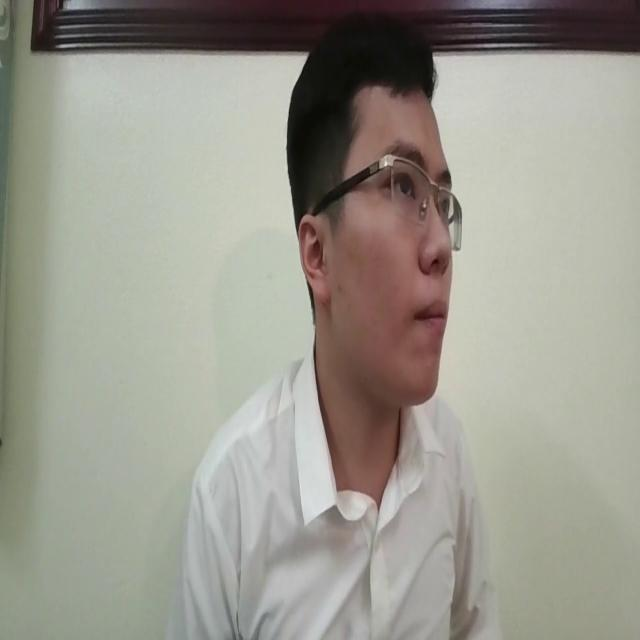student: (178, 26, 505, 640)
